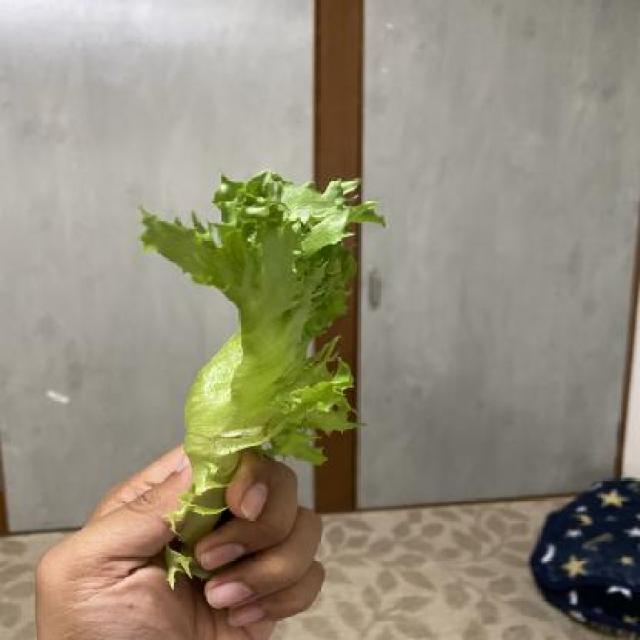lettuce: (138, 169, 386, 604)
